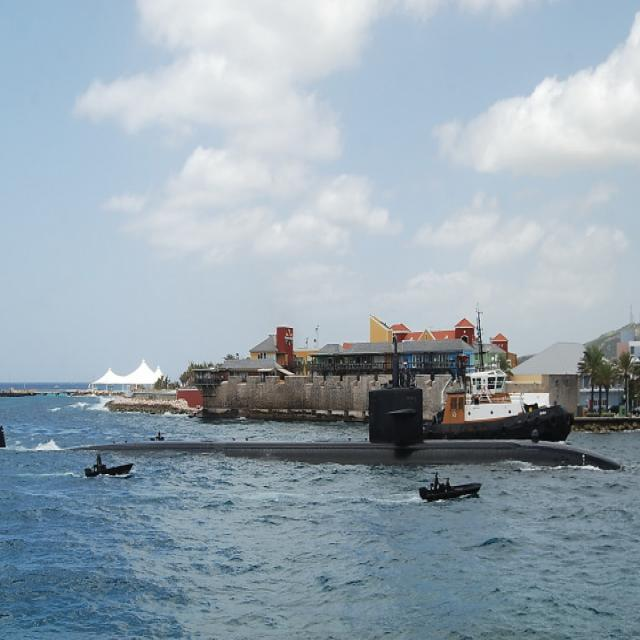submarine: (1, 385, 633, 475)
